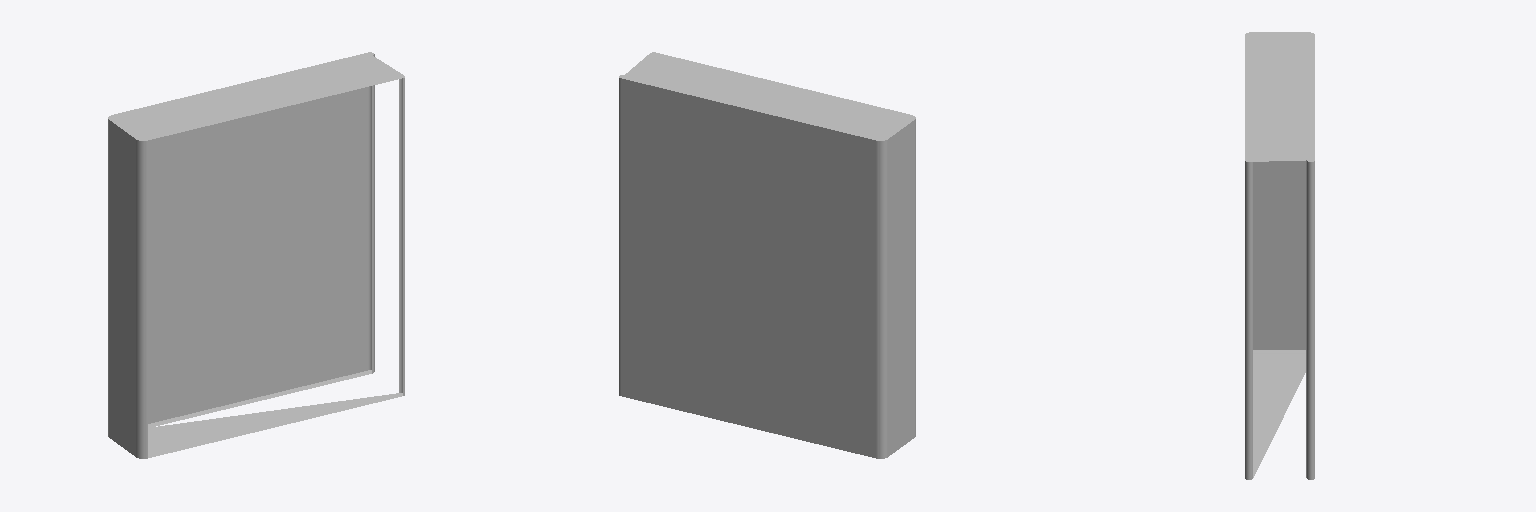
File: books__5.obj
3 views of the same model, side by side, from view 1: azimuth 30°, elevation 25°; view 2: azimuth 150°, elevation 25°; view 3: azimuth 270°, elevation 25° (orthographic).
Parts seen in each view (by area): view 1: grp5; view 2: grp5; view 3: grp5.
Boxes of the visible parts, x1=… form: grp5: x1=108, y1=52, x2=404, y2=458; grp5: x1=619, y1=52, x2=915, y2=458; grp5: x1=1245, y1=32, x2=1314, y2=479.
Size of the model in its own units: 118 by 134 by 26.86.